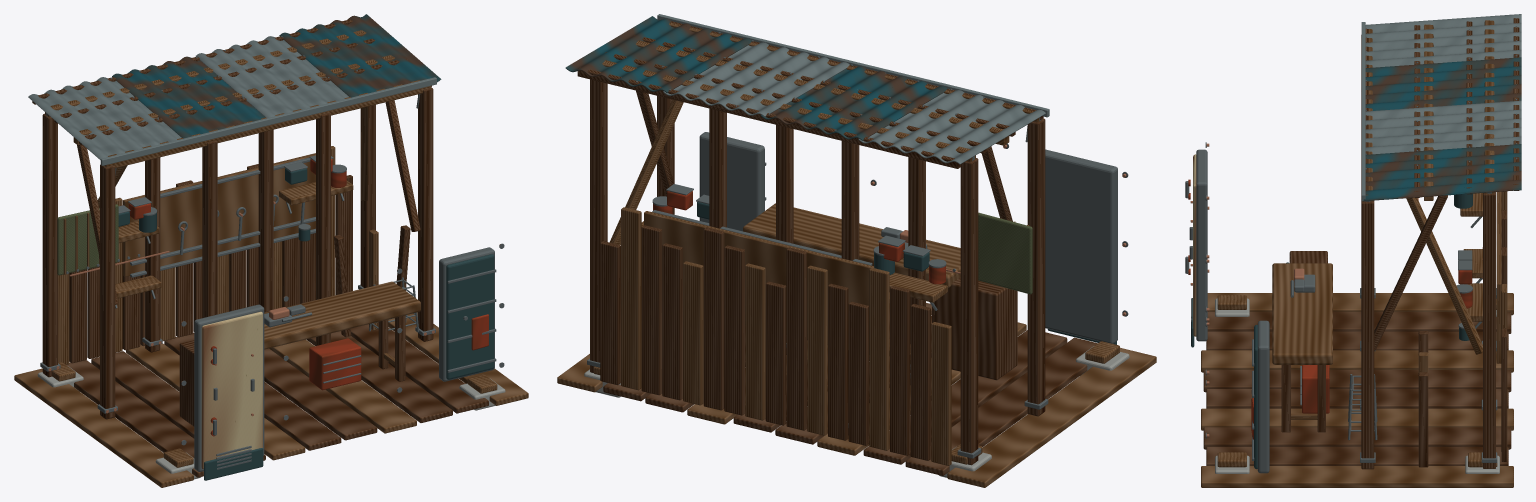
File: scavenger_workshop.glb
3 renders of one model, left to right at view 1: azimuth 30°, elevation 25°; view 2: azimuth 150°, elevation 25°; view 3: azimuth 270°, elevation 25°, orthographic. The views are drawn at different scales.
Visible parts, largest first — view 1: Scavenger_Reclaimed_cedar_and_drawer_wood, Scavenger_Sun-faded_drawer_wood, Scavenger_Chipped_blue-green_appliance_enamel, Scavenger_Weathered_galvanized_roofing, Scavenger_Blackened_salvaged_iron, Scavenger_Chipped_cream_appliance_enamel, Scavenger_Faded_red_appliance_enamel, Scavenger_Patched_olive_canvas, Scavenger_Pitted_concrete_blocks, Scavenger_Oxide_red_fastener_heads; view 2: Scavenger_Reclaimed_cedar_and_drawer_wood, Scavenger_Sun-faded_drawer_wood, Scavenger_Blackened_salvaged_iron, Scavenger_Weathered_galvanized_roofing, Scavenger_Chipped_blue-green_appliance_enamel, Scavenger_Patched_olive_canvas, Scavenger_Faded_red_appliance_enamel, Scavenger_Pitted_concrete_blocks; view 3: Scavenger_Reclaimed_cedar_and_drawer_wood, Scavenger_Sun-faded_drawer_wood, Scavenger_Chipped_blue-green_appliance_enamel, Scavenger_Weathered_galvanized_roofing, Scavenger_Blackened_salvaged_iron, Scavenger_Faded_red_appliance_enamel, Scavenger_Pitted_concrete_blocks, Scavenger_Chipped_cream_appliance_enamel.
Boxes of the visible parts, x1=… form: Scavenger_Reclaimed_cedar_and_drawer_wood: x1=32, y1=17, x2=488, y2=477; Scavenger_Sun-faded_drawer_wood: x1=14, y1=30, x2=528, y2=487; Scavenger_Chipped_blue-green_appliance_enamel: x1=112, y1=14, x2=494, y2=480; Scavenger_Weathered_galvanized_roofing: x1=28, y1=36, x2=436, y2=165; Scavenger_Blackened_salvaged_iron: x1=40, y1=29, x2=504, y2=471; Scavenger_Chipped_cream_appliance_enamel: x1=201, y1=311, x2=262, y2=469; Scavenger_Faded_red_appliance_enamel: x1=128, y1=159, x2=488, y2=436; Scavenger_Patched_olive_canvas: x1=57, y1=204, x2=118, y2=275; Scavenger_Pitted_concrete_blocks: x1=37, y1=366, x2=505, y2=479; Scavenger_Oxide_red_fastener_heads: x1=48, y1=201, x2=500, y2=441; Scavenger_Reclaimed_cedar_and_drawer_wood: x1=577, y1=19, x2=1097, y2=475; Scavenger_Sun-faded_drawer_wood: x1=557, y1=22, x2=1156, y2=487; Scavenger_Blackened_salvaged_iron: x1=587, y1=32, x2=1128, y2=458; Scavenger_Weathered_galvanized_roofing: x1=657, y1=14, x2=1049, y2=164; Scavenger_Chipped_blue-green_appliance_enamel: x1=565, y1=16, x2=1116, y2=344; Scavenger_Patched_olive_canvas: x1=978, y1=212, x2=1032, y2=294; Scavenger_Faded_red_appliance_enamel: x1=653, y1=191, x2=945, y2=284; Scavenger_Pitted_concrete_blocks: x1=584, y1=346, x2=1129, y2=477; Scavenger_Reclaimed_cedar_and_drawer_wood: x1=1203, y1=18, x2=1519, y2=469; Scavenger_Sun-faded_drawer_wood: x1=1201, y1=20, x2=1513, y2=487; Scavenger_Chipped_blue-green_appliance_enamel: x1=1191, y1=57, x2=1521, y2=469; Scavenger_Weathered_galvanized_roofing: x1=1361, y1=14, x2=1521, y2=201; Scavenger_Blackened_salvaged_iron: x1=1185, y1=26, x2=1517, y2=473; Scavenger_Faded_red_appliance_enamel: x1=1188, y1=179, x2=1472, y2=439; Scavenger_Pitted_concrete_blocks: x1=1215, y1=298, x2=1499, y2=473; Scavenger_Chipped_cream_appliance_enamel: x1=1193, y1=154, x2=1196, y2=336.
Bounding box in the file's own units: 25.9 × 19.16 × 19.36.
10 materials, 7 textured.
